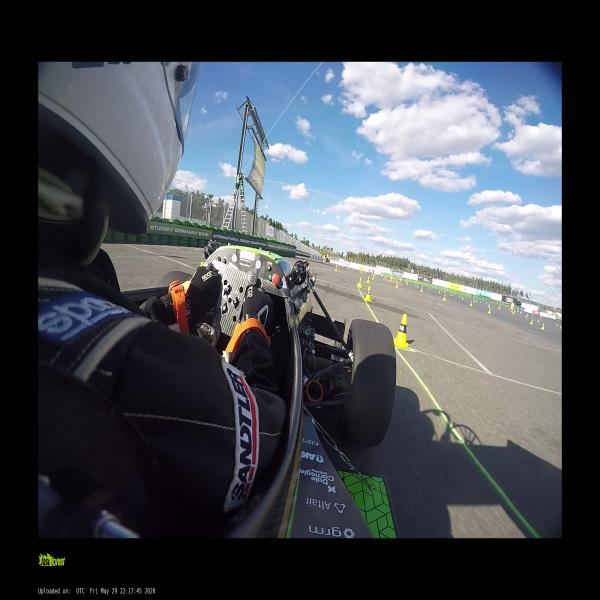yellow_cone: (393, 314, 411, 349), (364, 285, 372, 302), (357, 277, 362, 288), (540, 323, 544, 330), (366, 276, 369, 283), (334, 265, 337, 272), (488, 308, 491, 314), (530, 319, 533, 325), (443, 295, 446, 301), (420, 287, 423, 292), (470, 300, 472, 306), (396, 283, 398, 288), (372, 275, 374, 280), (536, 319, 539, 322)
